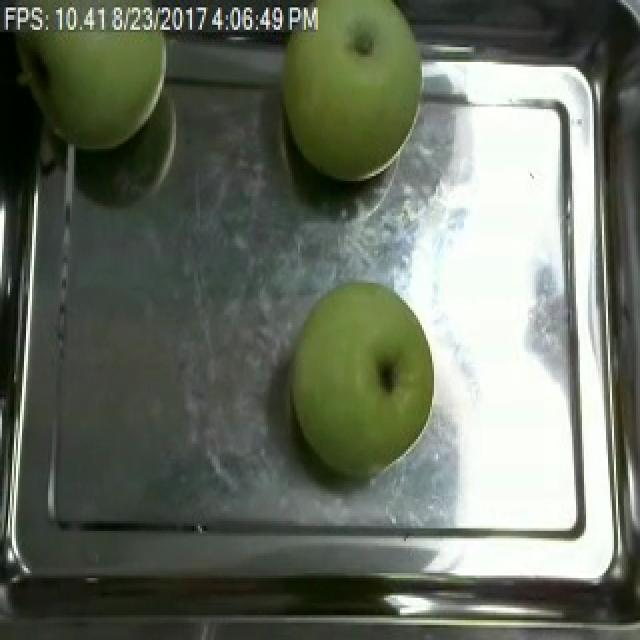50-_ripeness: (282, 274, 445, 486), (286, 5, 424, 176)
